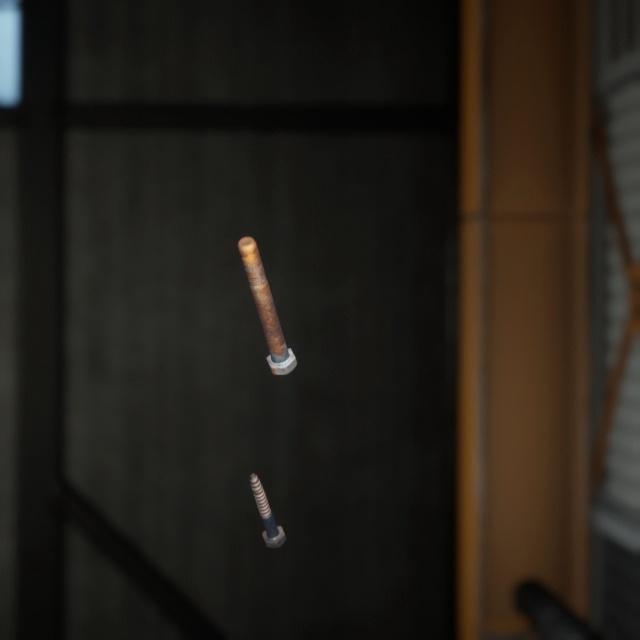bolt: (233, 213, 301, 362), (245, 446, 290, 530)
